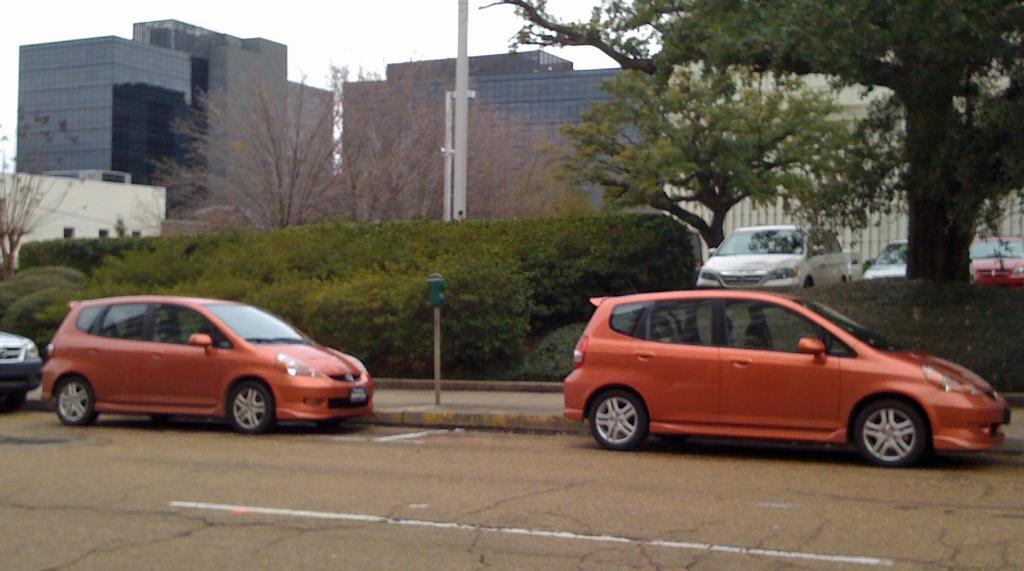Car: (558, 284, 1003, 466), (41, 284, 374, 418), (695, 218, 849, 285), (0, 326, 47, 425), (965, 227, 1023, 285), (857, 238, 909, 283)
